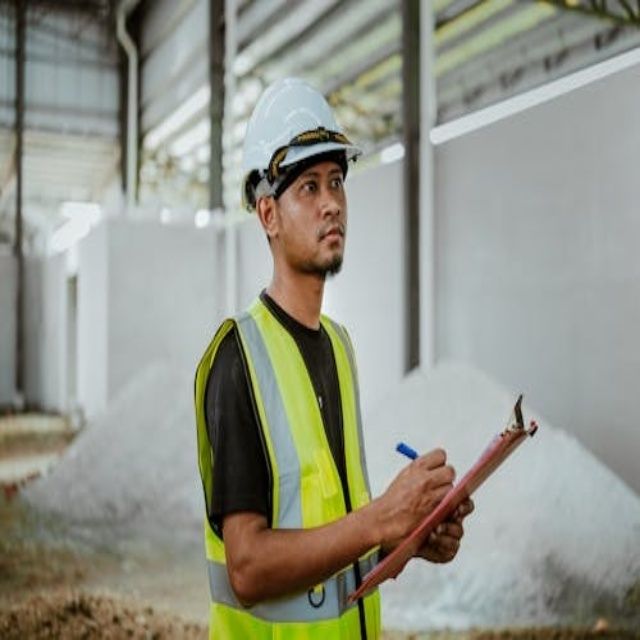Sin_gafas: (296, 167, 351, 206)
Sin_guantes: (361, 436, 460, 550), (412, 488, 479, 567)
Sin_mascara: (311, 223, 348, 258)
